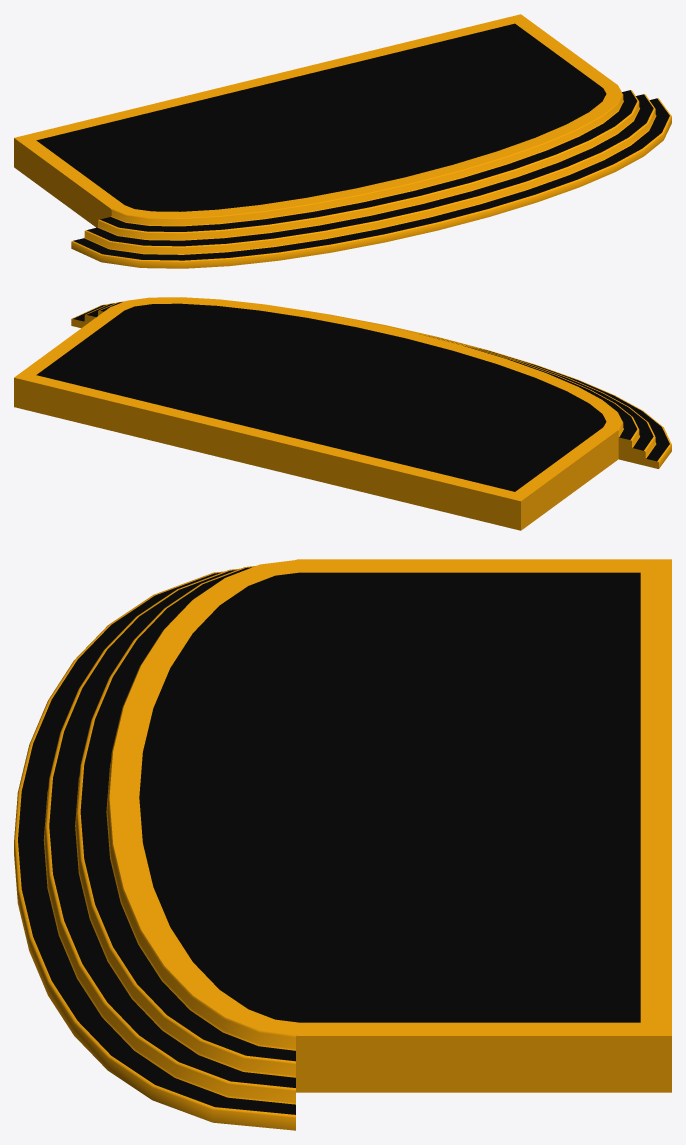
The model's file is stage.fbx.
3 renders of one model, top to bottom at view 1: azimuth 30°, elevation 25°; view 2: azimuth 150°, elevation 25°; view 3: azimuth 270°, elevation 25°, orthographic. The views are drawn at different scales.
Visible parts, largest first — view 1: Cube; view 2: Cube; view 3: Cube.
Part boxes in pixels (x1,y1,x2,y2): Cube: (14, 14, 671, 268); Cube: (14, 297, 671, 530); Cube: (14, 559, 671, 1130).
Size of the model in its own units: 2086 by 100 by 1050.
